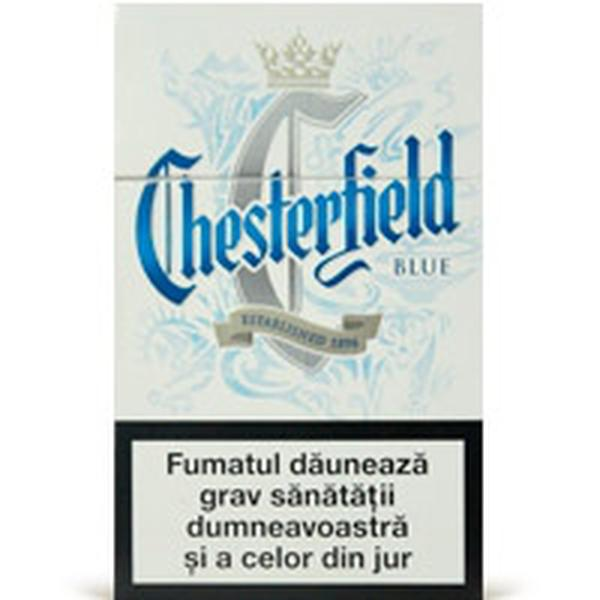chesterfield_blue: (115, 4, 483, 599)
